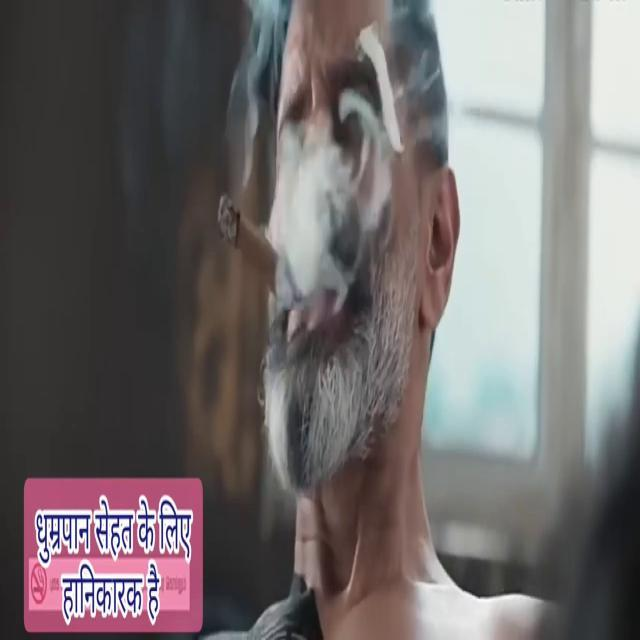smoking: (191, 31, 483, 484)
